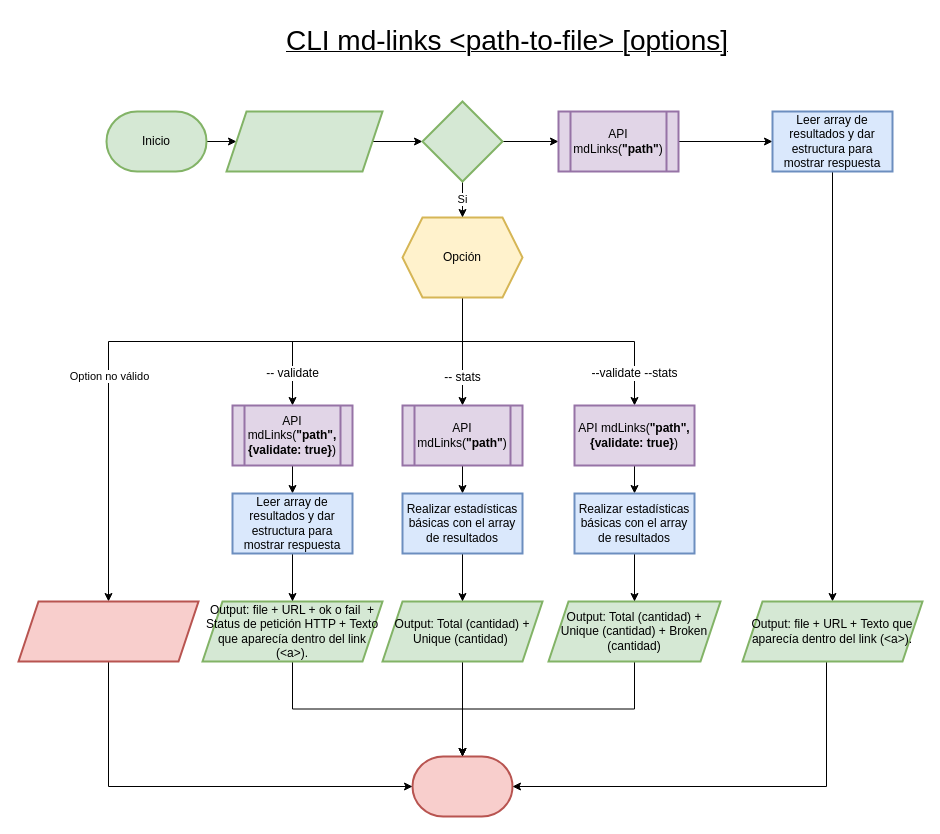
This 940x834 diagram has some shape labels left out. Each missing label, with the centre of its shape:
"Fin" belongs at [462,786].
"md-links <path> [options]" belongs at [304,141].
"Output: 'A valid option was not entered'" belongs at [108,631].
"¿ Existe options ?" belongs at [462,141].
